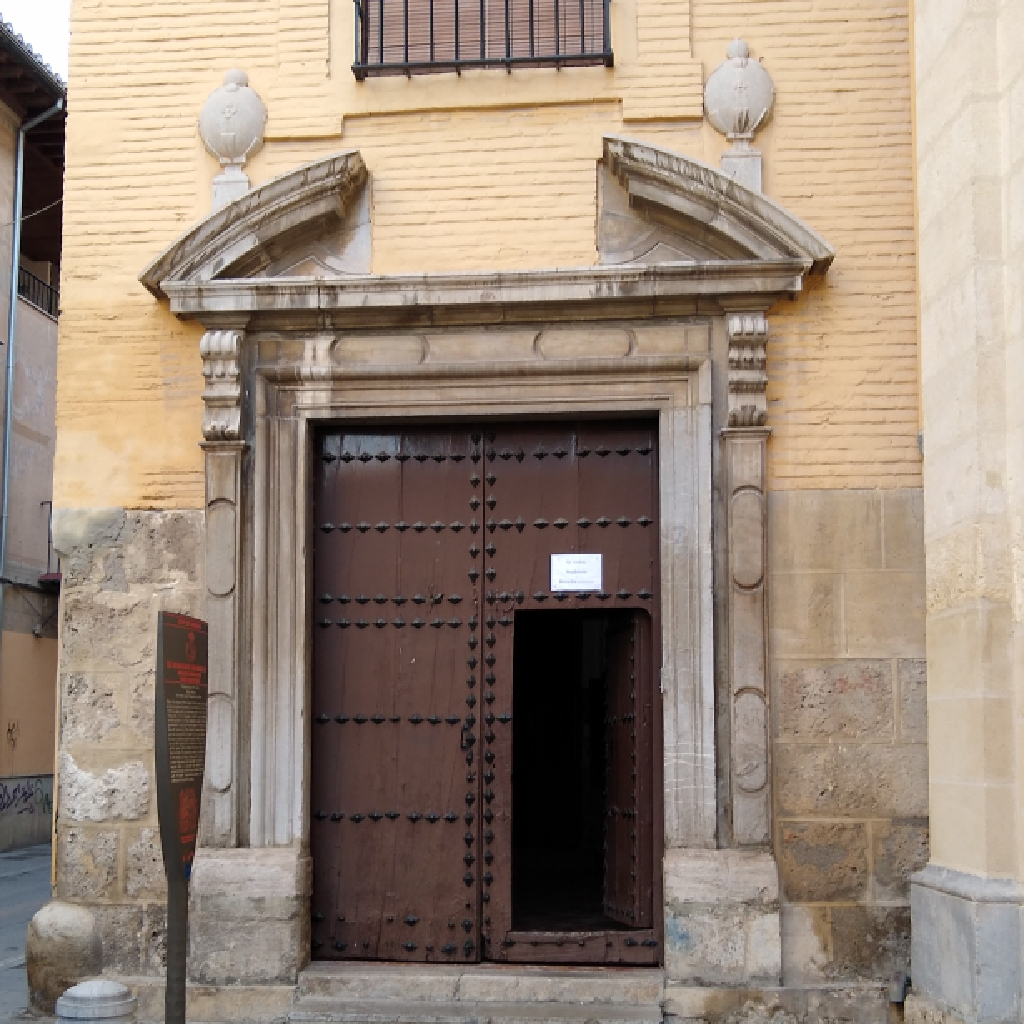fronton-partido: (118, 134, 811, 323)
vano-adintelado: (237, 316, 730, 974)
